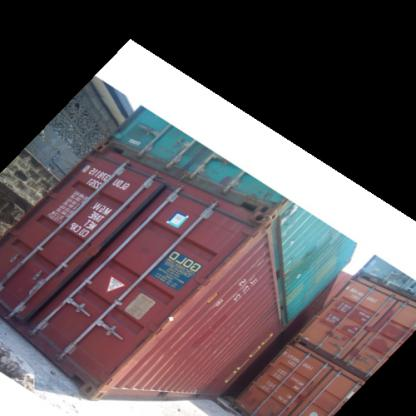Damage: (160, 262, 224, 323)
